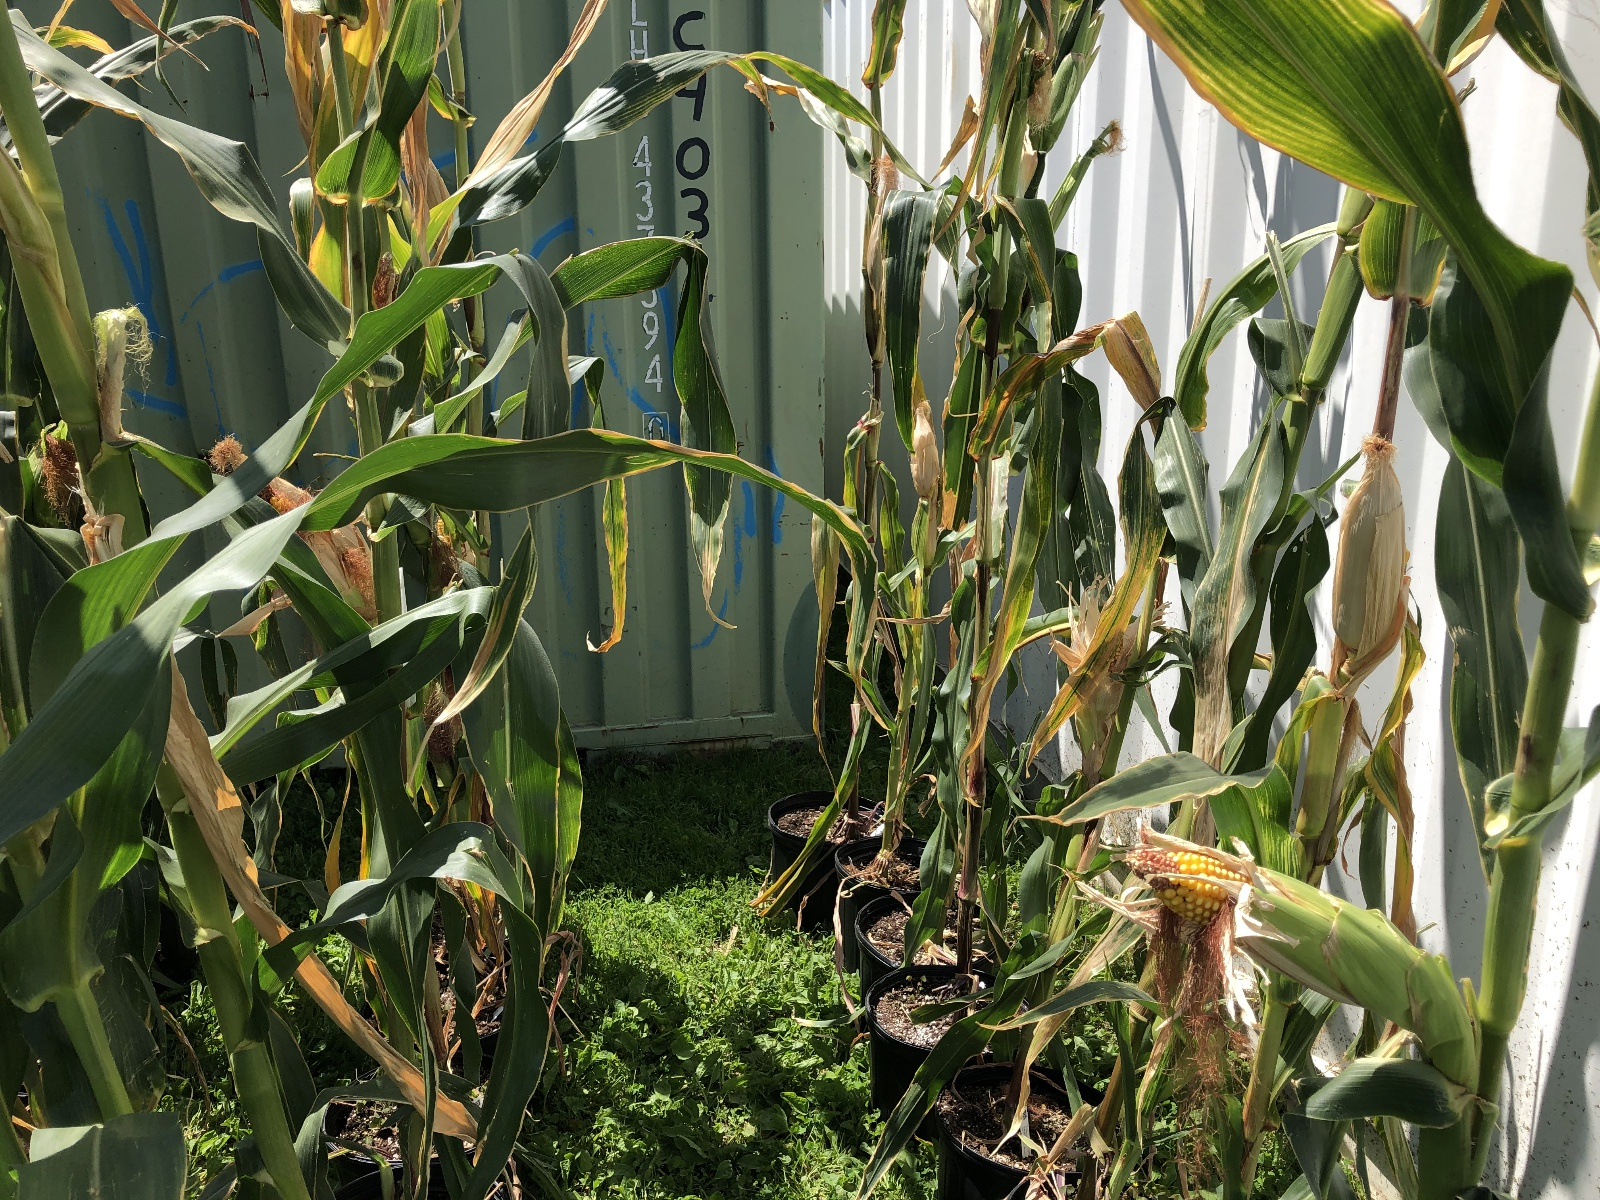ear: (1107, 829, 1445, 1018), (1329, 434, 1414, 655), (906, 396, 951, 498), (256, 476, 304, 521)
